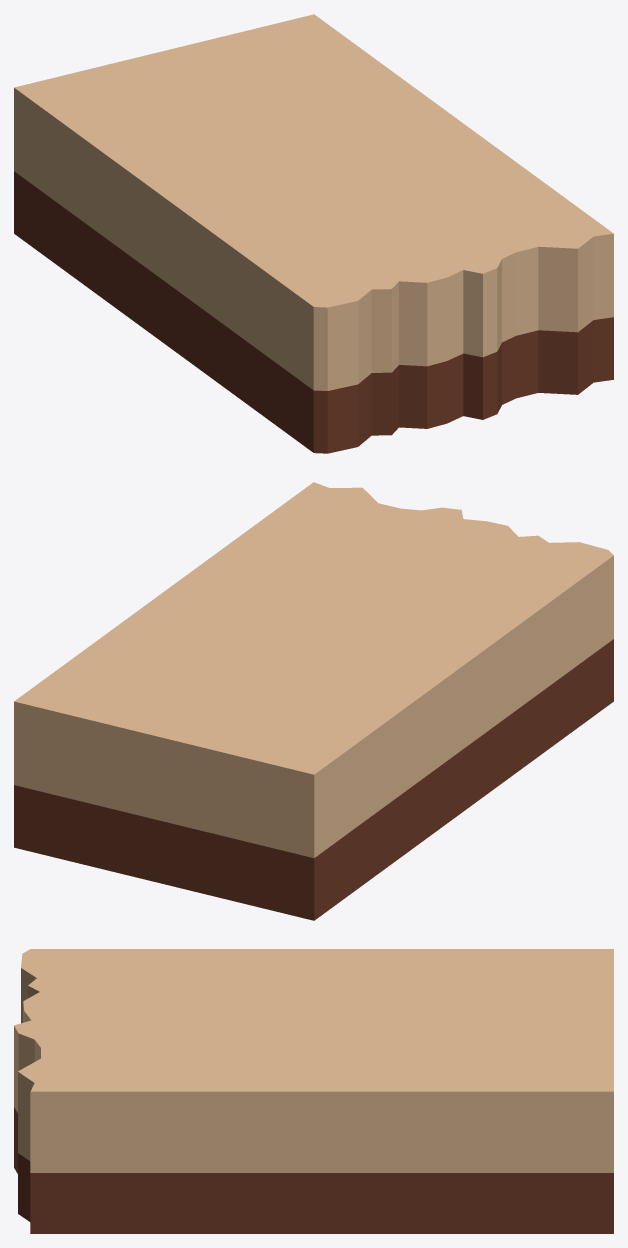
Rendered from cliff_wall.glb.
3 renders of one model, top to bottom at view 1: azimuth 30°, elevation 25°; view 2: azimuth 150°, elevation 25°; view 3: azimuth 270°, elevation 25°, orthographic. The views are drawn at different scales.
Visible parts, largest first — view 1: mesh; view 2: mesh; view 3: mesh.
Boxes of the visible parts, bbox=[...] form: mesh: bbox=[14, 14, 613, 453]; mesh: bbox=[14, 482, 613, 920]; mesh: bbox=[14, 949, 613, 1233].
Bounding box in the file's own units: 15 × 6.98 × 26.67.
